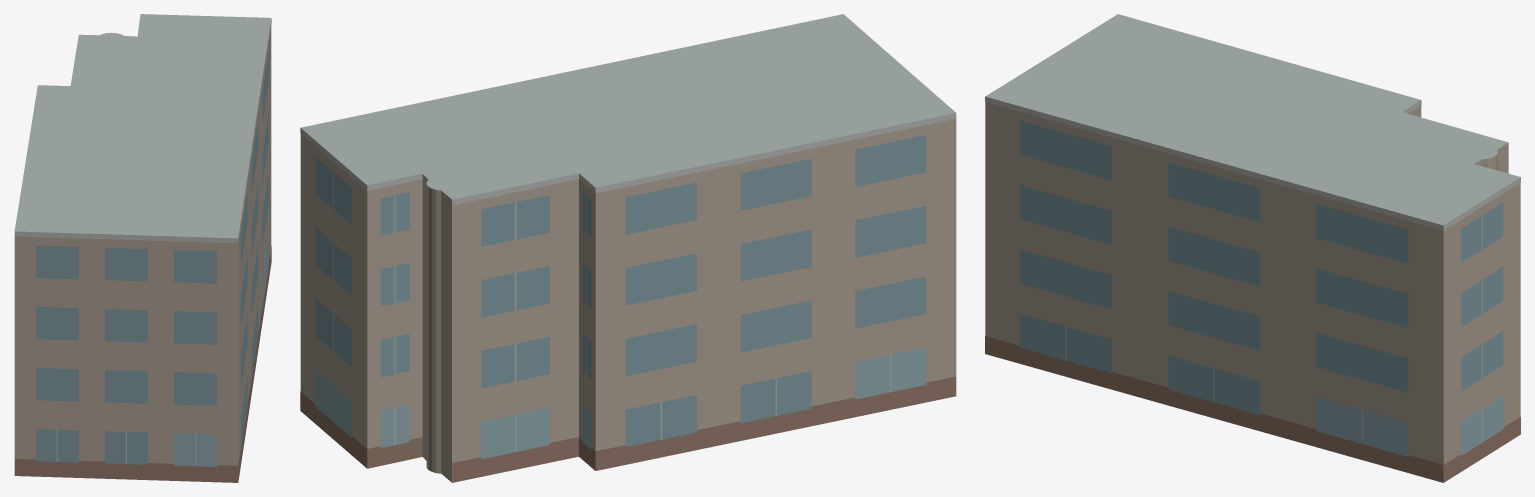
Rendered from survey-upis-32798476.glb.
The picture shows the model from 3 angles, left to right: view 1: azimuth 30°, elevation 25°; view 2: azimuth 150°, elevation 25°; view 3: azimuth 270°, elevation 25°; orthographic projection. The views are drawn at different scales.
Parts seen in each view (by area): view 1: survey-upis-32798476.tmp; view 2: survey-upis-32798476.tmp; view 3: survey-upis-32798476.tmp.
Part boxes in pixels (x1,y1,x2,y2): survey-upis-32798476.tmp: (14,14,271,482); survey-upis-32798476.tmp: (300,14,956,482); survey-upis-32798476.tmp: (985,14,1520,482).
Size of the model in its own units: 20.97 by 11.9 by 22.45.
